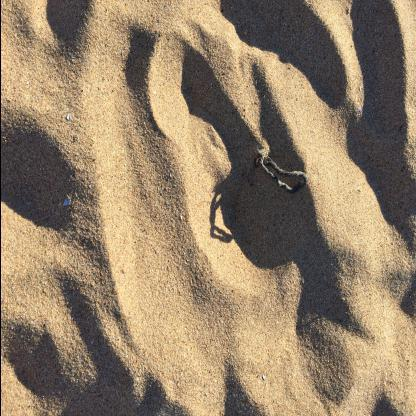diger: (257, 156, 309, 196)
